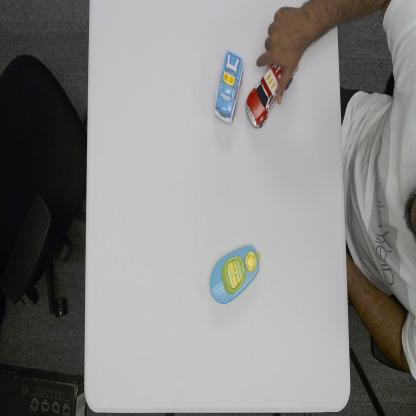Arm: (303, 0, 338, 46)
Boat: (208, 243, 262, 306)
Car: (213, 46, 244, 127)
Firetruck: (245, 58, 300, 132)
Hand: (256, 5, 305, 106)
